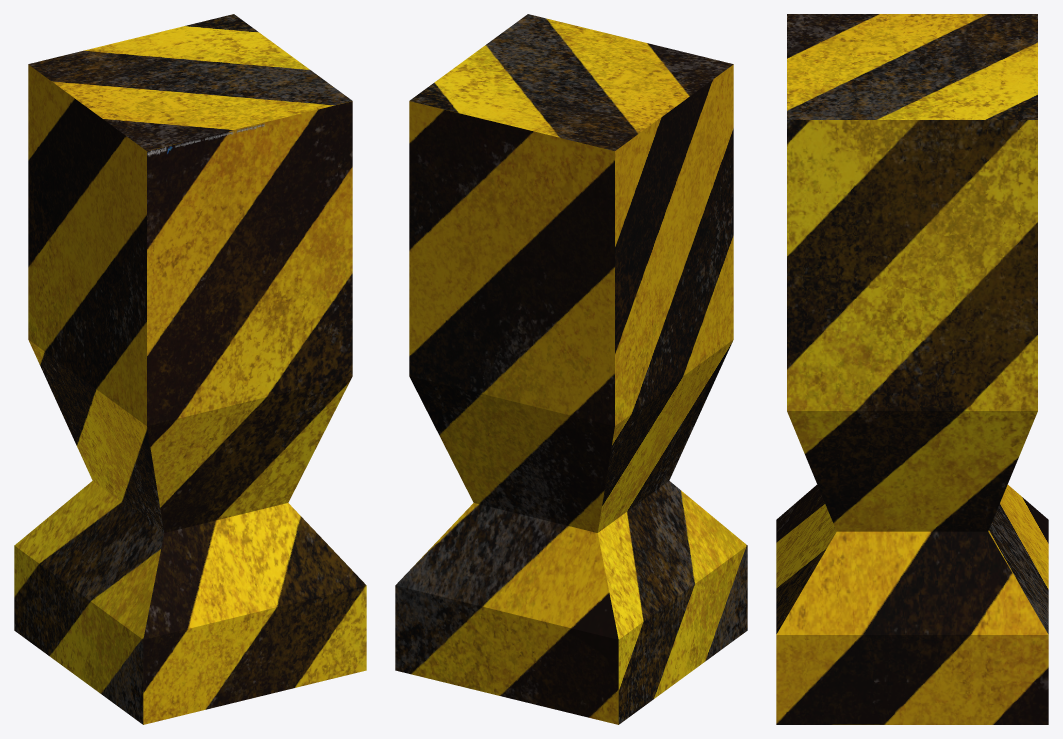
File: TestBlock.fbx
The picture shows the model from 3 angles, left to right: view 1: azimuth 30°, elevation 25°; view 2: azimuth 150°, elevation 25°; view 3: azimuth 270°, elevation 25°; orthographic projection. The views are drawn at different scales.
Visible parts, largest first — view 1: TestBlock; view 2: TestBlock; view 3: TestBlock.
Part boxes in pixels (box(x1,y1,x2,y2)): TestBlock: box(14, 14, 366, 724); TestBlock: box(395, 14, 747, 724); TestBlock: box(776, 14, 1048, 724).
Bounding box in the file's own units: 0.1934 × 0.4702 × 0.1934.
1 material, 1 textured.
